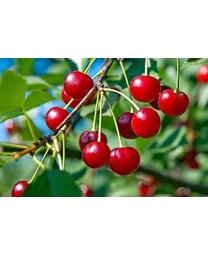cherry: (106, 147, 140, 176), (158, 87, 189, 117), (131, 107, 161, 138), (129, 74, 161, 103), (83, 140, 110, 168), (63, 71, 89, 98), (46, 107, 70, 130), (10, 178, 32, 196)
